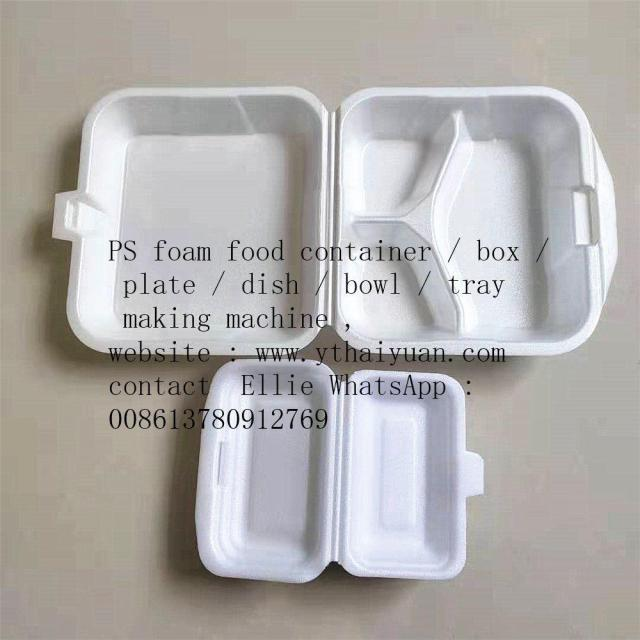styrofoam: (332, 84, 618, 358), (51, 85, 330, 357)
